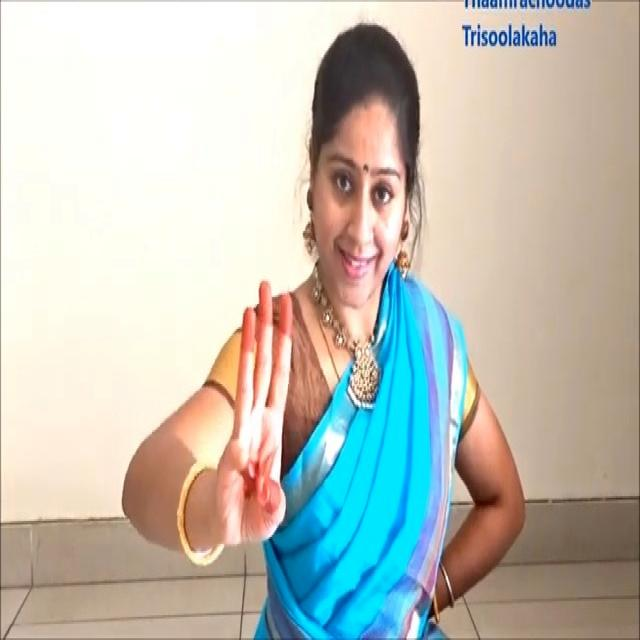Trishula: (221, 276, 304, 554)
lady: (294, 28, 438, 307)
text: (461, 10, 564, 66)
